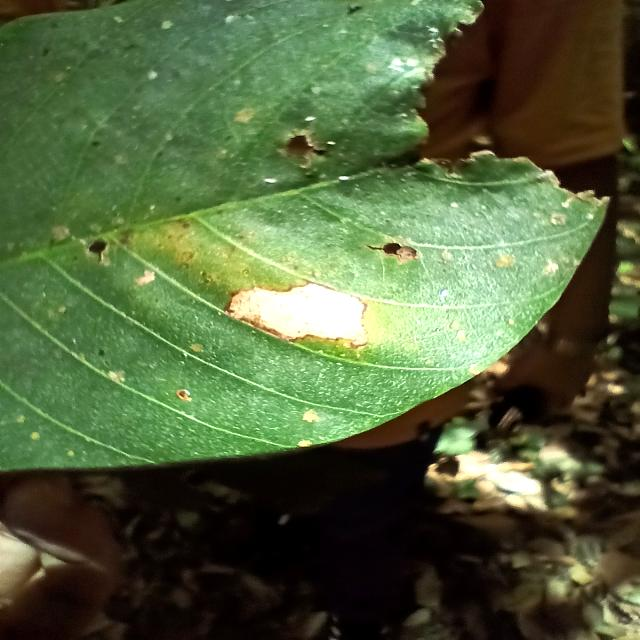Leaf-Blight: (227, 282, 367, 346)
